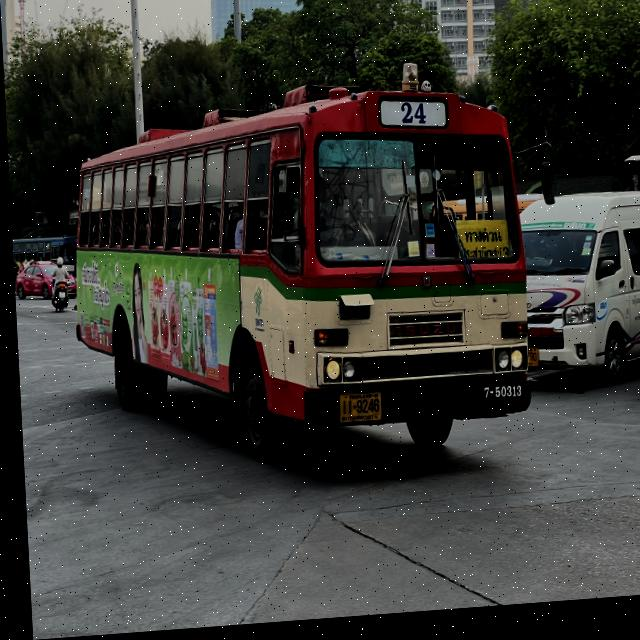BMTA-bus: (60, 56, 533, 488)
Bus Line Number: (396, 104, 431, 136)
Bus Side Number: (478, 388, 519, 410)
Destination Sign: (452, 223, 507, 268)
